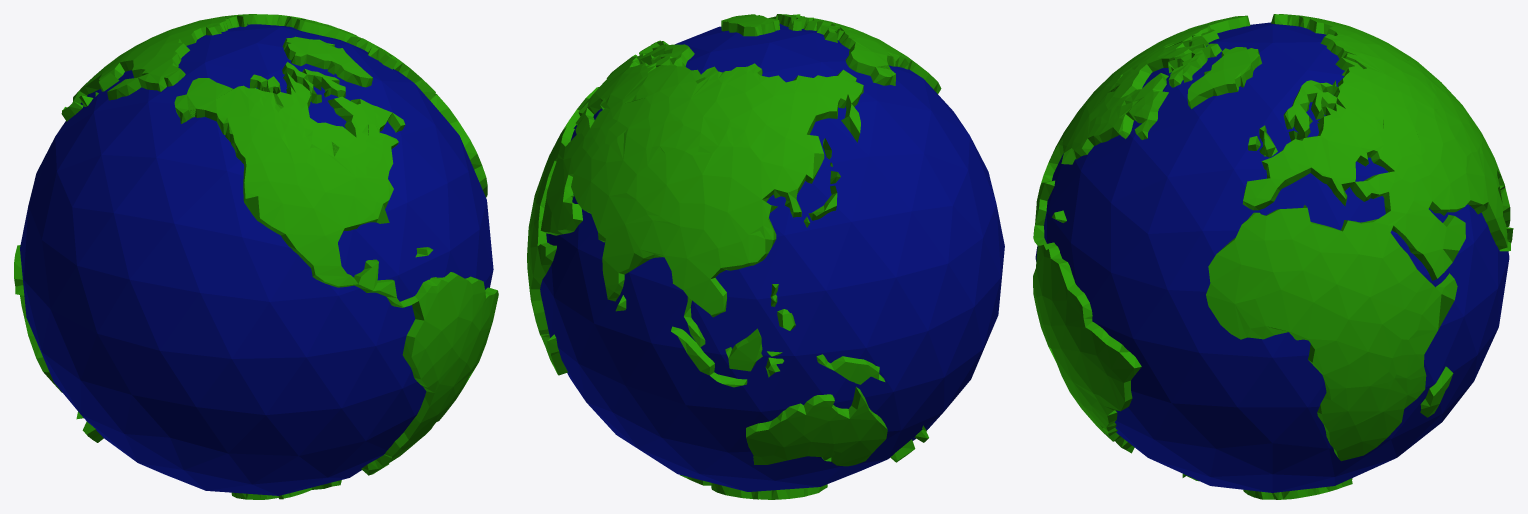
Rendered from earthwithsections.glb.
The picture shows the model from 3 angles, left to right: view 1: azimuth 30°, elevation 25°; view 2: azimuth 150°, elevation 25°; view 3: azimuth 270°, elevation 25°; orthographic projection.
Parts seen in each view (by area): view 1: Icosphere, Sphere.002, Sphere.001, Sphere.006, Sphere.007, Sphere.004, Sphere.005, Sphere.003; view 2: Icosphere, Sphere.006, Sphere.004, Sphere.002, Sphere.005, Sphere.007, Sphere.003; view 3: Icosphere, Sphere.005, Sphere.006, Sphere.002, Sphere.001, Sphere.007, Sphere.003.
Boxes of the visible parts, box(x1,y1,x2,y2) form: Icosphere: box(20, 24, 493, 495); Sphere.002: box(174, 36, 426, 320); Sphere.001: box(361, 247, 498, 475); Sphere.006: box(61, 14, 278, 121); Sphere.007: box(276, 15, 435, 100); Sphere.004: box(14, 245, 103, 442); Sphere.005: box(433, 93, 487, 197); Sphere.003: box(231, 480, 341, 499); Icosphere: box(540, 24, 1004, 491); Sphere.006: box(540, 63, 863, 387); Sphere.004: box(746, 354, 928, 466); Sphere.002: box(721, 14, 941, 93); Sphere.005: box(527, 87, 598, 375); Sphere.007: box(578, 40, 694, 116); Sphere.003: box(680, 475, 827, 499); Icosphere: box(1035, 22, 1509, 492); Sphere.005: box(1206, 205, 1457, 461); Sphere.006: box(1271, 14, 1513, 280); Sphere.002: box(1033, 15, 1261, 245); Sphere.001: box(1033, 210, 1141, 453); Sphere.007: box(1242, 80, 1377, 210); Sphere.003: box(1182, 474, 1352, 499).
Bounding box in the file's own units: 2.02 × 2.05 × 2.03.
